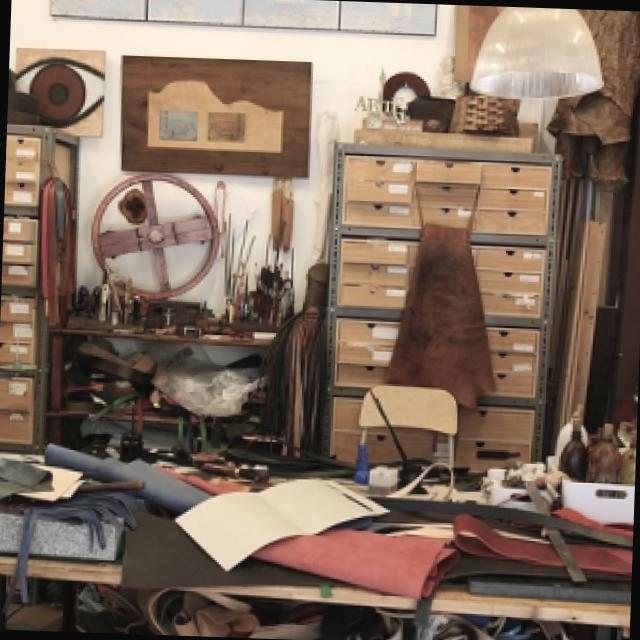mess: (0, 408, 636, 637), (52, 260, 328, 478)
